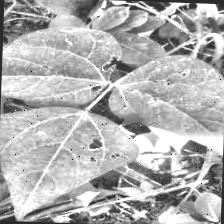ALS: (0, 105, 133, 221), (108, 55, 224, 165), (1, 22, 122, 105)
